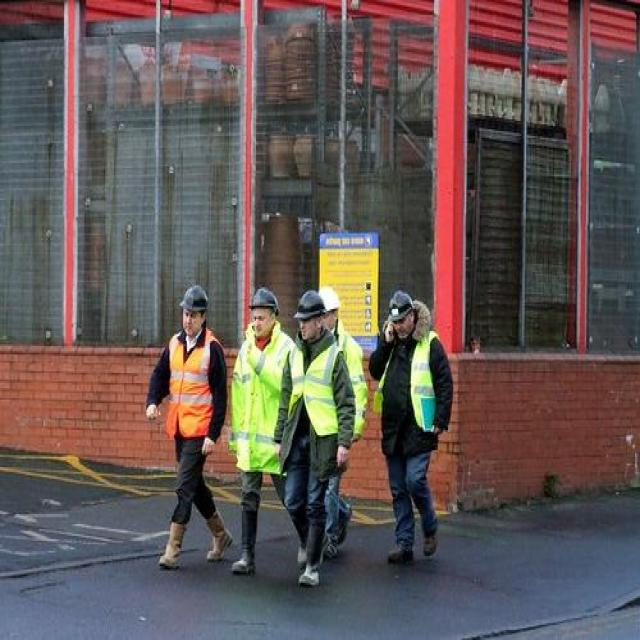Reflective-Jacket: (374, 329, 444, 449), (229, 336, 280, 475), (162, 328, 218, 443), (296, 332, 350, 442)
Safety-Helmet: (292, 287, 328, 324), (384, 286, 417, 324), (178, 280, 211, 316), (247, 284, 280, 312)
